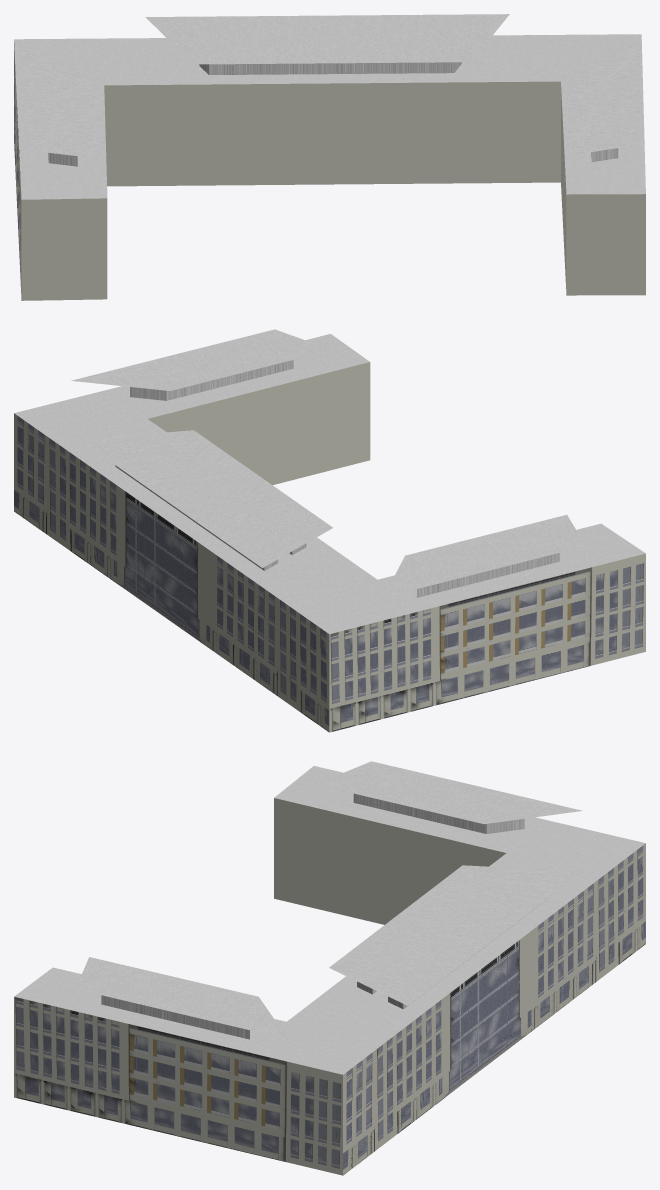
File: bangonglou6.gltf
3 renders of one model, top to bottom at view 1: azimuth 30°, elevation 25°; view 2: azimuth 150°, elevation 25°; view 3: azimuth 270°, elevation 25°, orthographic. The views are drawn at different scales.
Parts seen in each view (by area): view 1: Line3117654; view 2: Line3117654; view 3: Line3117654.
Boxes of the visible parts, box(x1,y1,x2,y2) form: Line3117654: box(14, 14, 645, 300); Line3117654: box(14, 329, 645, 732); Line3117654: box(14, 761, 645, 1175).
Size of the model in its own units: 690 by 126 by 597.
Materials: 5 (5 with a texture image).
